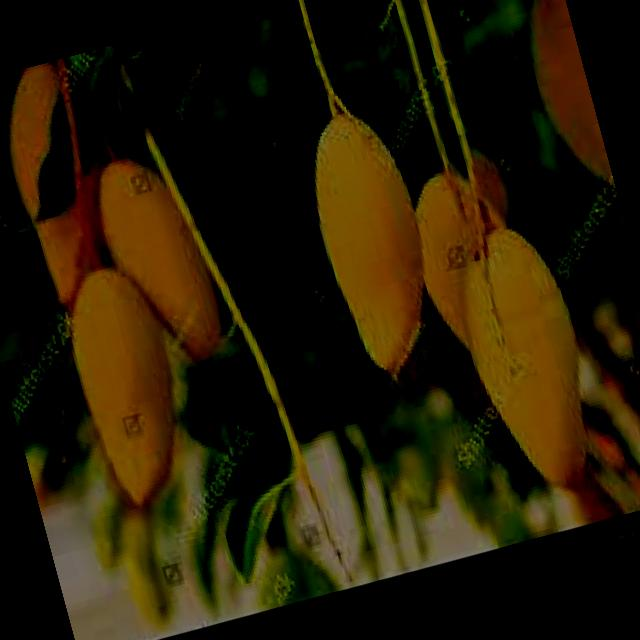Mango: (441, 215, 616, 507), (288, 97, 452, 380), (53, 254, 206, 508), (82, 142, 238, 378), (0, 55, 134, 310)
